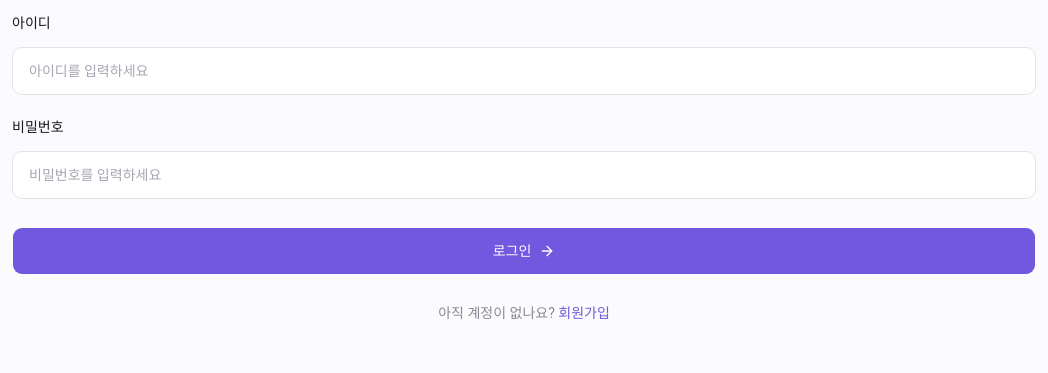
Scenario: login API integration › shows an application error returned with HTTP 200
This screenshot has width=1048, height=373.
In the field labelled "아이디": [524, 71] box [12,47,1036,95], type "  driver  "
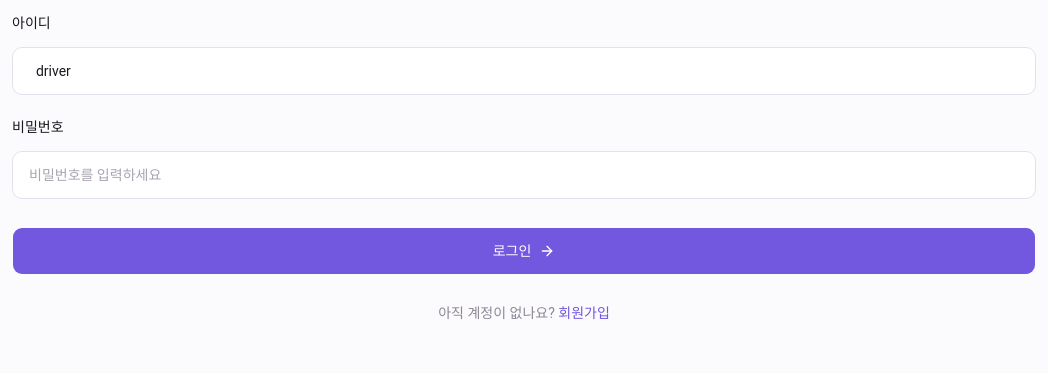
In the password field labelled "비밀번호": [524, 175] box [12,151,1036,199], type "password123"
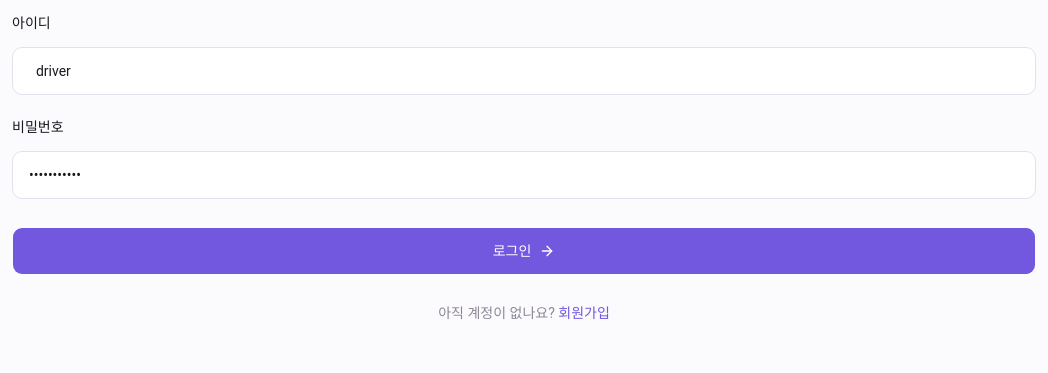
Click the button "로그인": [524, 251] box [12,227,1036,275]
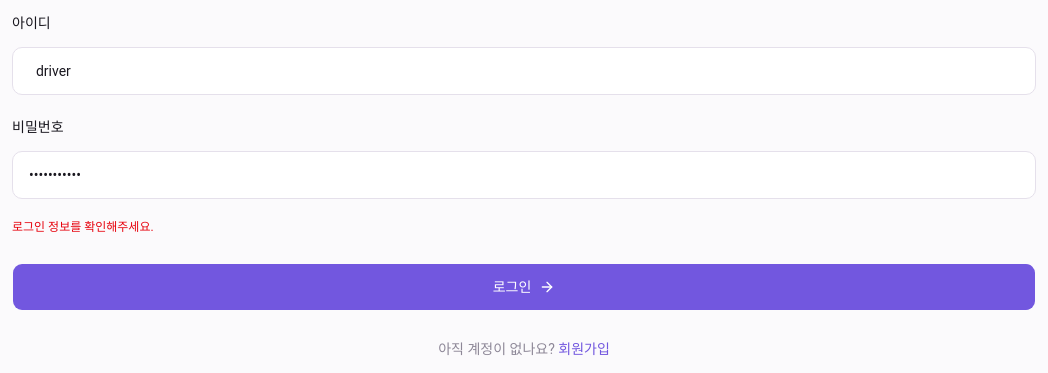
Result: the message reads "로그인 정보를 확인해주세요." at [12,220,154,234]
